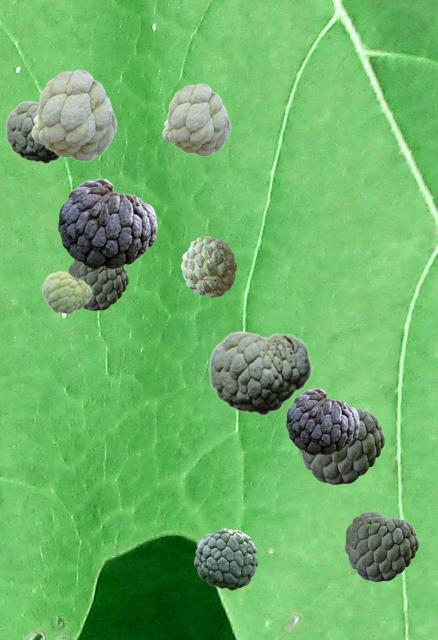atis: (58, 178, 156, 268), (208, 330, 311, 415), (31, 69, 116, 160), (298, 408, 383, 483), (162, 83, 230, 155), (345, 512, 417, 580), (286, 388, 358, 454), (194, 528, 257, 589), (5, 100, 60, 163), (181, 236, 235, 296), (68, 260, 127, 309), (41, 270, 91, 314)
